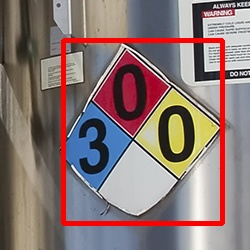nfpa: (63, 40, 222, 223)
